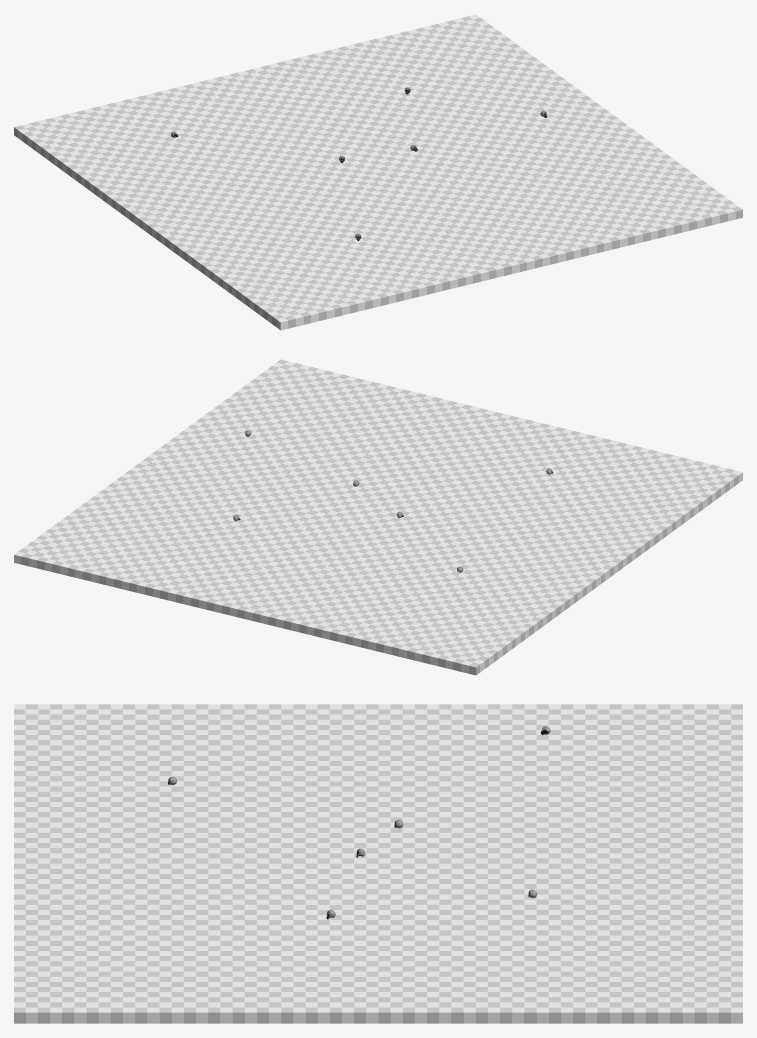
Rendered from env_attachment_scene.glb.
The picture shows the model from 3 angles, top to bottom: view 1: azimuth 30°, elevation 25°; view 2: azimuth 150°, elevation 25°; view 3: azimuth 270°, elevation 25°; orthographic projection. The views are drawn at different scales.
Visible parts, largest first — view 1: Rectangle01; view 2: Rectangle01; view 3: Rectangle01.
Boxes of the visible parts, x1=… form: Rectangle01: x1=14, y1=14, x2=742, y2=330; Rectangle01: x1=14, y1=359, x2=742, y2=675; Rectangle01: x1=14, y1=704, x2=742, y2=1023.
Size of the model in its own units: 30 by 2.62 by 30.
2 materials, 2 textured.
